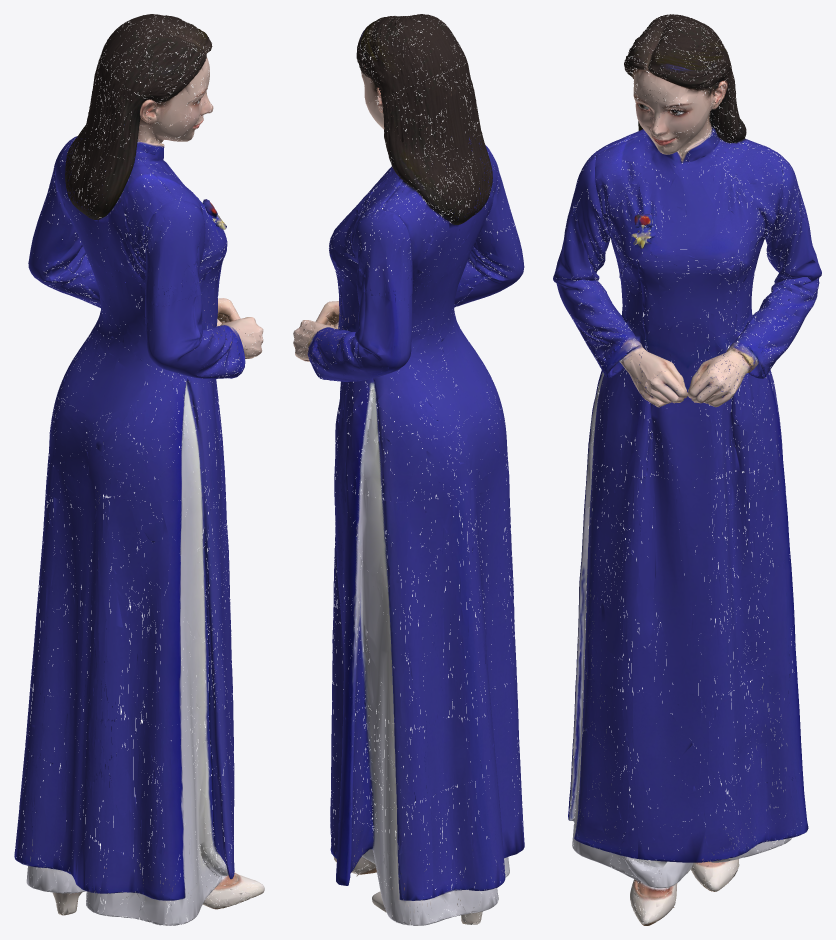
The model's file is vietnamese_ao_dai_woman_opt.glb.
The picture shows the model from 3 angles, left to right: view 1: azimuth 30°, elevation 25°; view 2: azimuth 150°, elevation 25°; view 3: azimuth 270°, elevation 25°; orthographic projection. The views are drawn at different scales.
Visible parts, largest first — view 1: mesh_9, mesh_8, mesh_10, mesh_7, mesh_5, mesh_6, mesh_12, mesh_4, mesh_11, mesh_13, mesh_1, mesh_2 (+2 smaller); view 2: mesh_2, mesh_1, mesh_0, mesh_3, mesh_4, mesh_12, mesh_10, mesh_11, mesh_7, mesh_5, mesh_13, mesh_6 (+2 smaller); view 3: mesh_6, mesh_11, mesh_5, mesh_3, mesh_9, mesh_7, mesh_1, mesh_10, mesh_12, mesh_0, mesh_4, mesh_2 (+2 smaller).
Part boxes in pixels (x1,y1,x2,y2): mesh_9: (113, 200, 248, 925); mesh_8: (85, 152, 263, 925); mesh_10: (70, 14, 260, 922); mesh_7: (63, 20, 263, 925); mesh_5: (29, 24, 264, 914); mesh_6: (51, 22, 264, 915); mesh_12: (33, 14, 240, 915); mesh_4: (14, 14, 188, 887); mesh_11: (46, 14, 263, 905); mesh_13: (17, 27, 236, 914); mesh_1: (29, 136, 145, 846); mesh_2: (14, 141, 237, 852); mesh_2: (293, 187, 494, 920); mesh_1: (308, 196, 479, 925); mesh_0: (322, 178, 454, 925); mesh_3: (293, 89, 494, 913); mesh_4: (294, 15, 505, 921); mesh_12: (310, 16, 498, 924); mesh_10: (328, 15, 519, 875); mesh_11: (315, 16, 515, 877); mesh_7: (354, 14, 521, 874); mesh_5: (330, 15, 520, 908); mesh_13: (295, 31, 505, 924); mesh_6: (332, 14, 524, 877); mesh_6: (577, 29, 714, 925); mesh_11: (648, 14, 727, 921); mesh_5: (590, 33, 752, 924); mesh_3: (692, 74, 779, 879); mesh_9: (553, 156, 641, 912); mesh_7: (573, 19, 717, 912); mesh_1: (736, 145, 817, 853); mesh_10: (569, 14, 703, 910); mesh_12: (668, 15, 751, 891); mesh_0: (723, 145, 821, 846); mesh_4: (628, 14, 805, 879); mesh_2: (686, 165, 803, 861).
Bounding box in the file's own units: 0.2456 × 0.9799 × 0.2764.
Materials: 14 (14 with a texture image).
